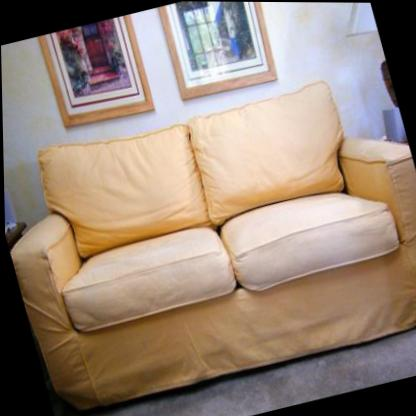Sofa: (1, 48, 416, 416)
